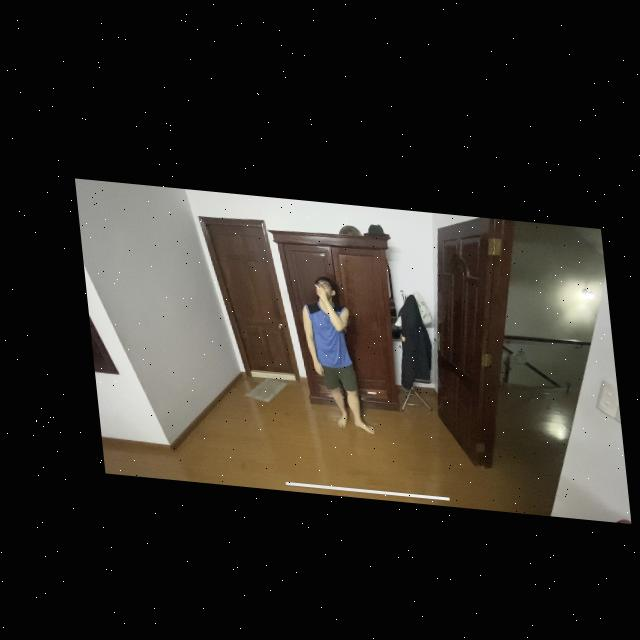cigarette: (309, 277, 313, 283)
